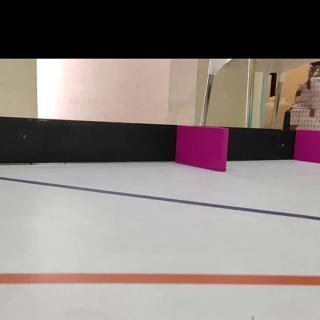xparking: (179, 127, 225, 168), (297, 132, 320, 158)
